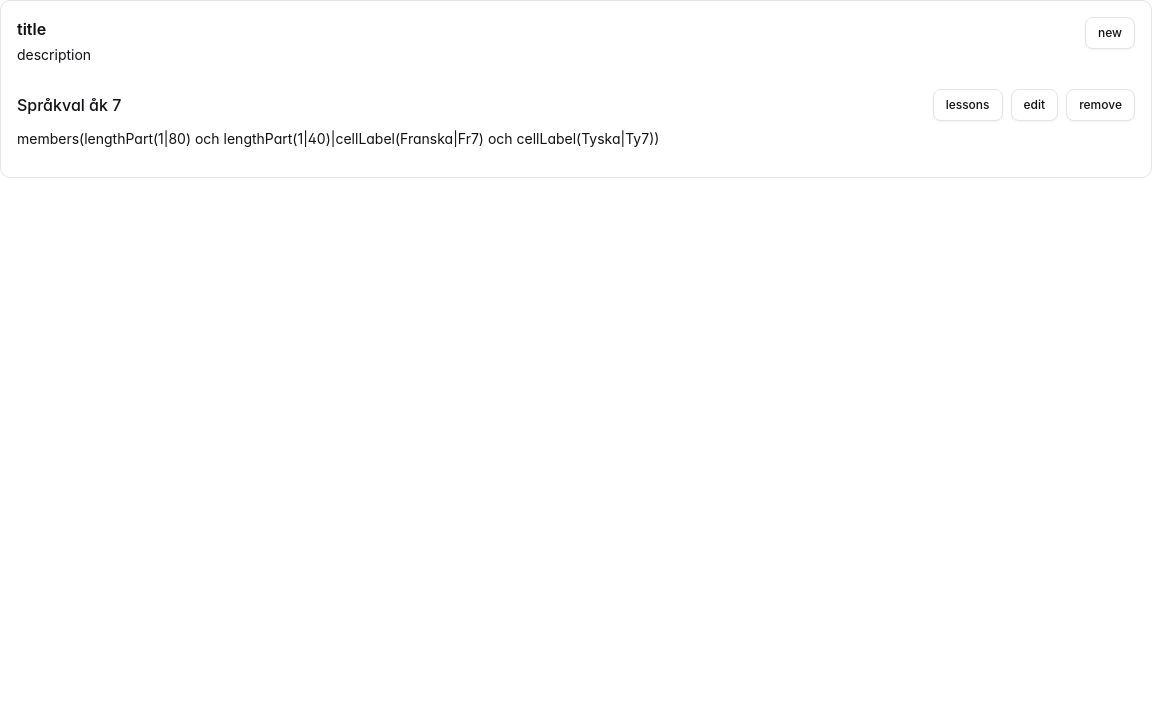
Test case: BlocksHost › Ändra lektioner › opens on the block's lengths and sends the whole shape, once, for the block
Click the button with aria-label "lessonsNamed(Språkval åk 7)". click: point(968, 105)
box: [933,89,1002,121]
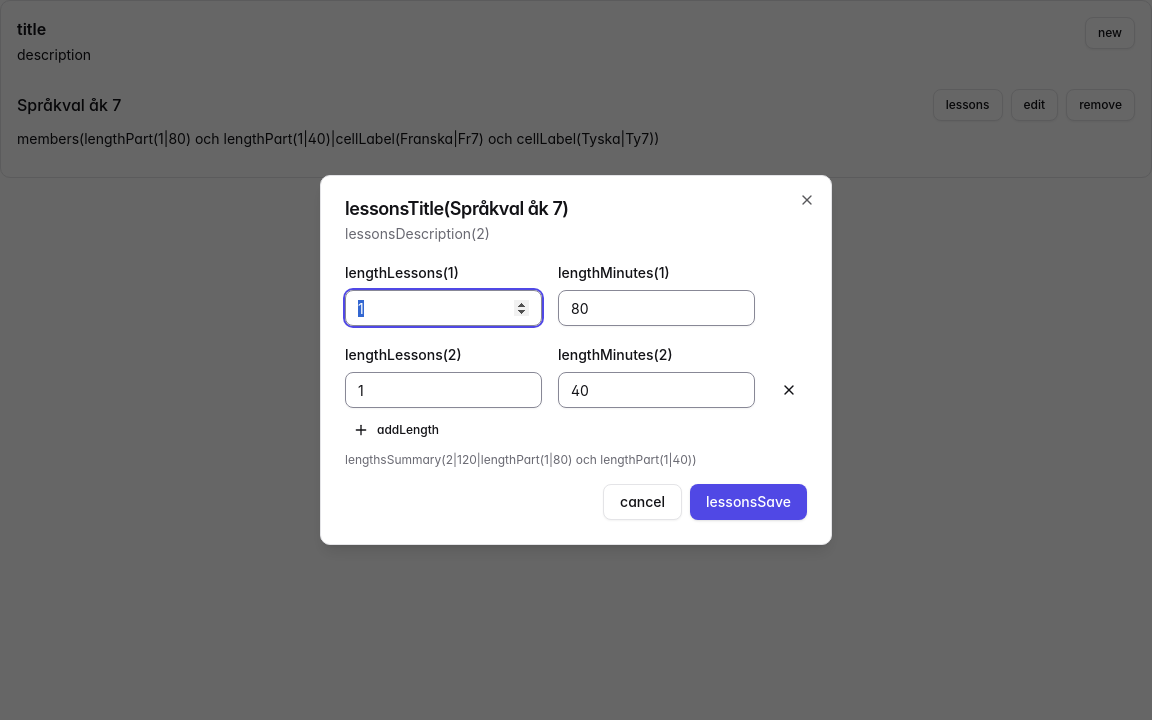
Expected: the dialog shows "lessonsDescription(2)", [345,225,490,242]
Expected: the number field labelled "lengthLessons(1)" holds "1", [345,290,542,326]
Expected: the number field labelled "lengthMinutes(1)" holds "80", [558,290,755,326]
// Back to one length: three lessons of 60 for every member.
Click the button named "removeLength". click: point(789, 390)
box: [771,372,807,408]
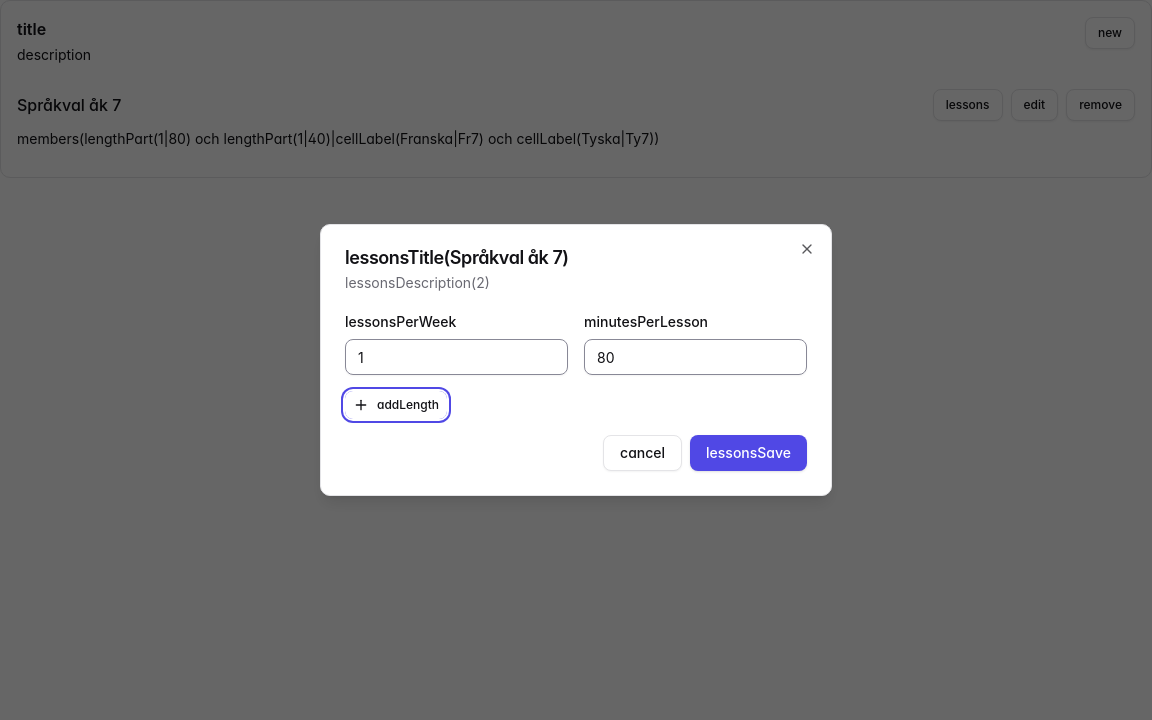
Replace the text in the number field labelled "lessonsPerWeek" with "3". click: point(456, 357)
box: [345,339,568,375]
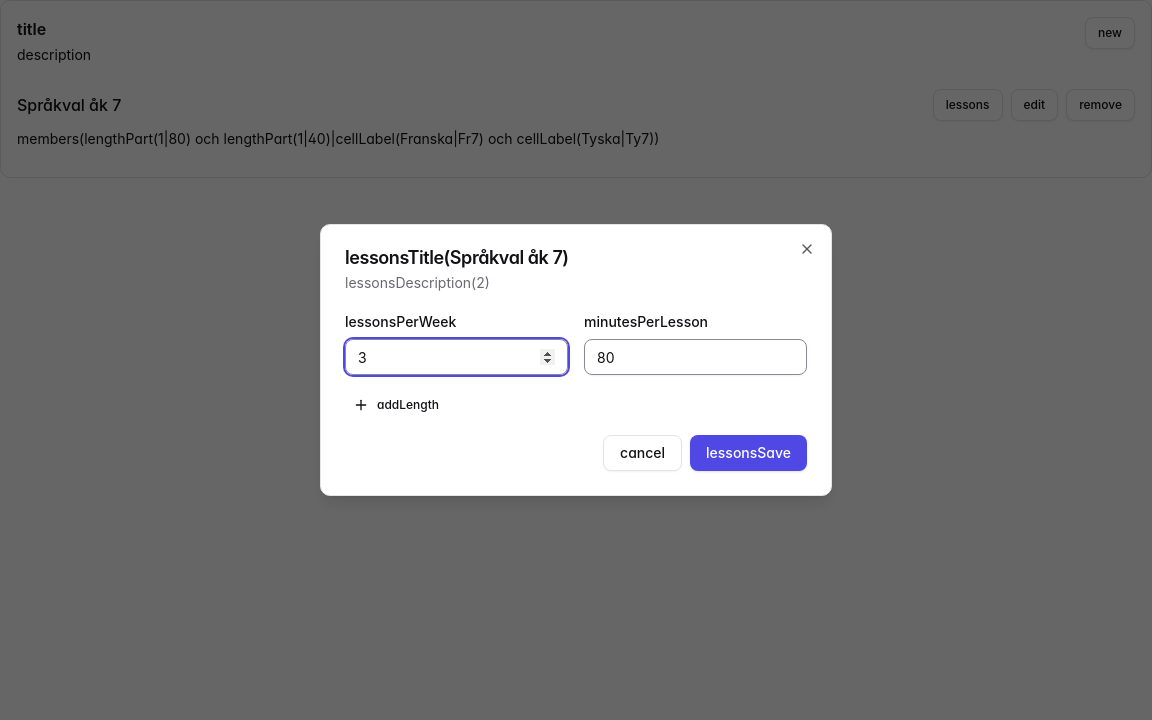
Replace the text in the number field labelled "minutesPerLesson" with "60". click: point(696, 357)
box: [584,339,807,375]
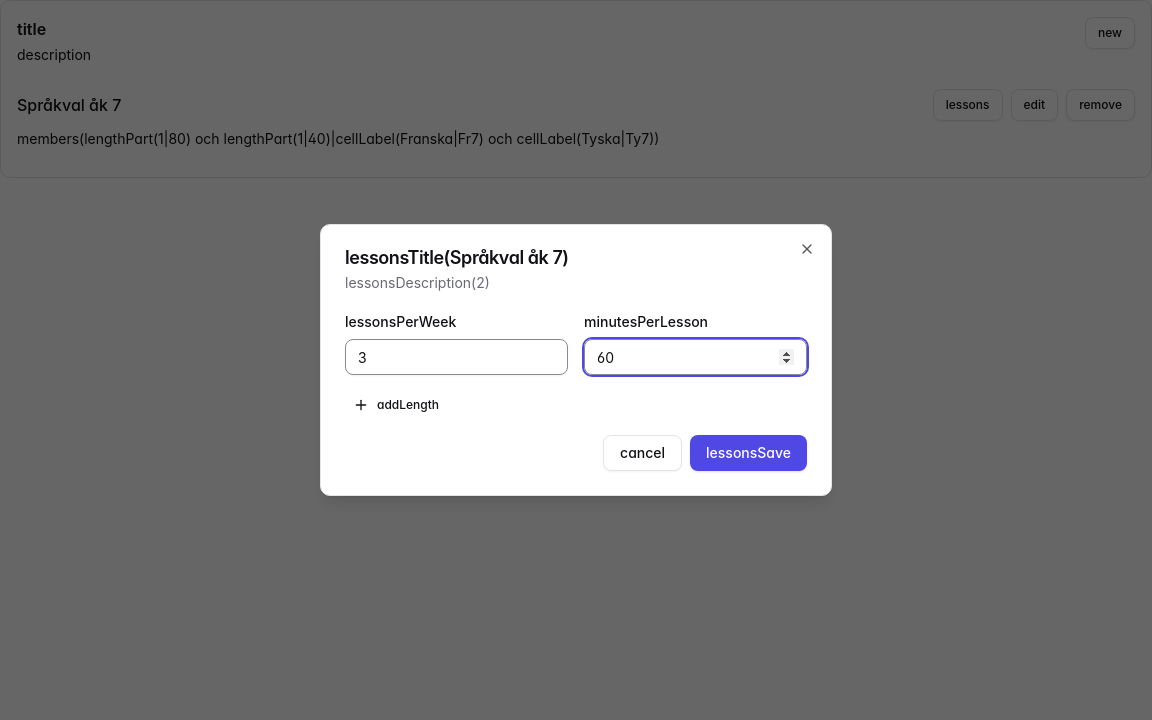
Click the button "lessonsSave". click: point(748, 453)
box: [690,435,807,471]
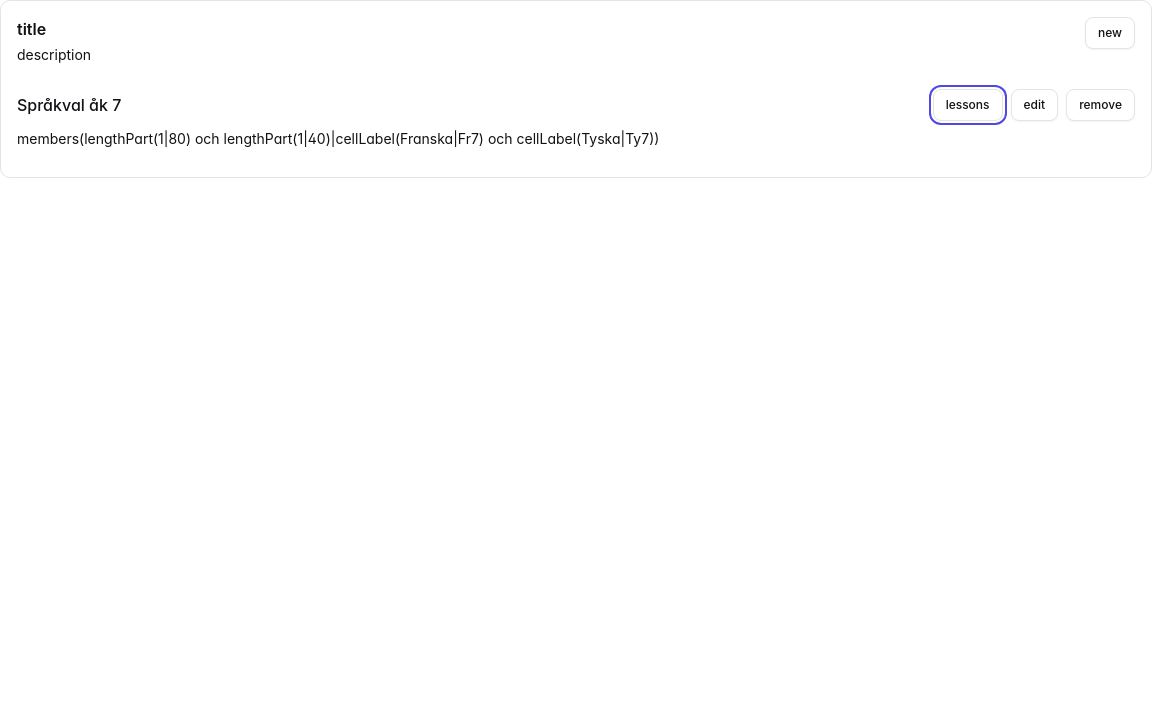
Expected: the dialog is gone
